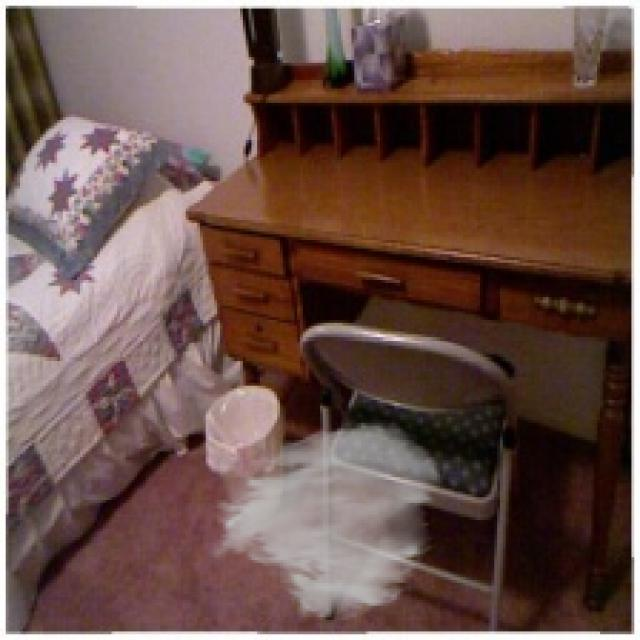smoke: (205, 420, 446, 623)
